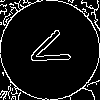V: (25, 25, 80, 74)
